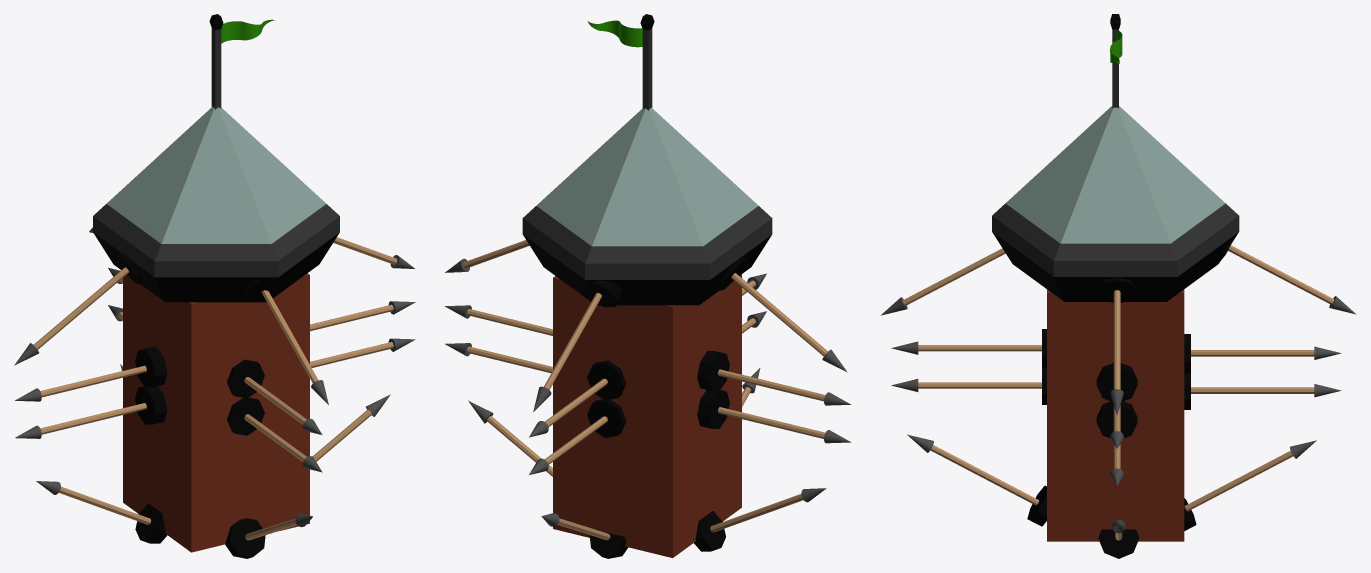
The model's file is Tower4.fbx.
The picture shows the model from 3 angles, left to right: view 1: azimuth 30°, elevation 25°; view 2: azimuth 150°, elevation 25°; view 3: azimuth 270°, elevation 25°; orthographic projection.
Visible parts, largest first — view 1: mergedBlocks; view 2: mergedBlocks; view 3: mergedBlocks.
Part boxes in pixels (left/top/right/bottom): mergedBlocks: left=14, top=14, right=415, bottom=558; mergedBlocks: left=445, top=14, right=850, bottom=558; mergedBlocks: left=881, top=14, right=1356, bottom=558.
Bounding box in the file's own units: 33.85 × 41.3 × 34.7.
